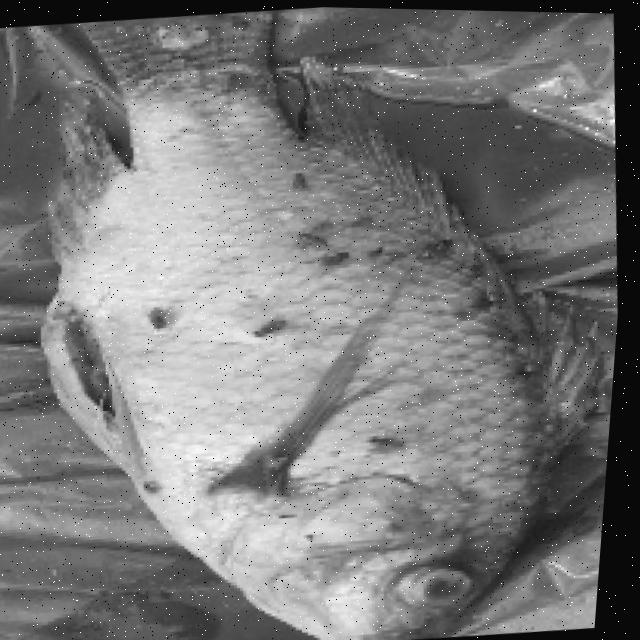Non-Fresh: (17, 3, 609, 640), (404, 552, 493, 619)
